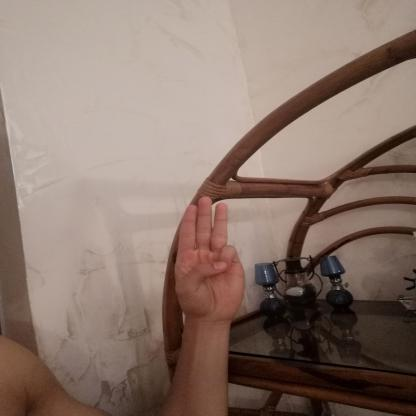THA: (158, 186, 254, 328)
